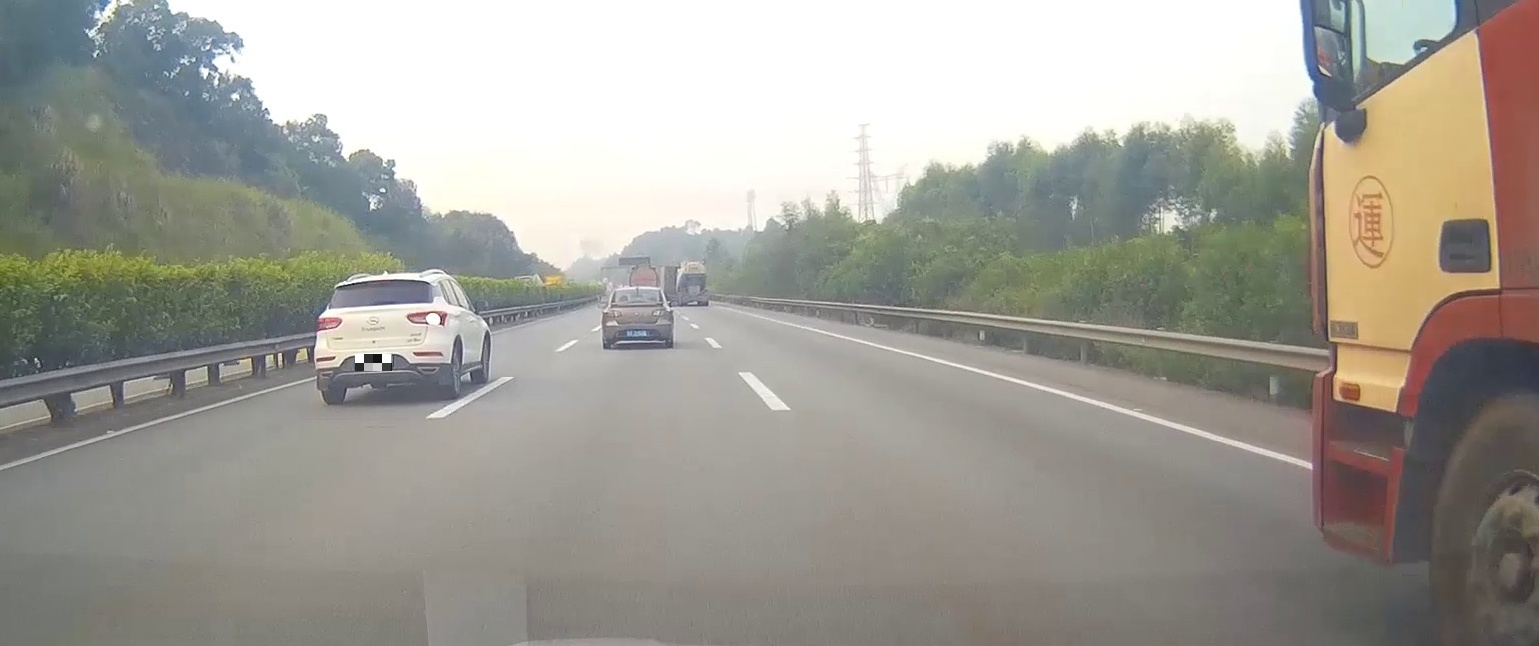L_light: (315, 316, 342, 331), (602, 310, 622, 317)
R_light: (407, 310, 447, 327), (651, 308, 670, 316)
T_light: (373, 280, 389, 284), (632, 289, 643, 291)
day-no: (601, 287, 674, 349)
day-right: (314, 268, 455, 405)
plate_1: (355, 354, 392, 371)
